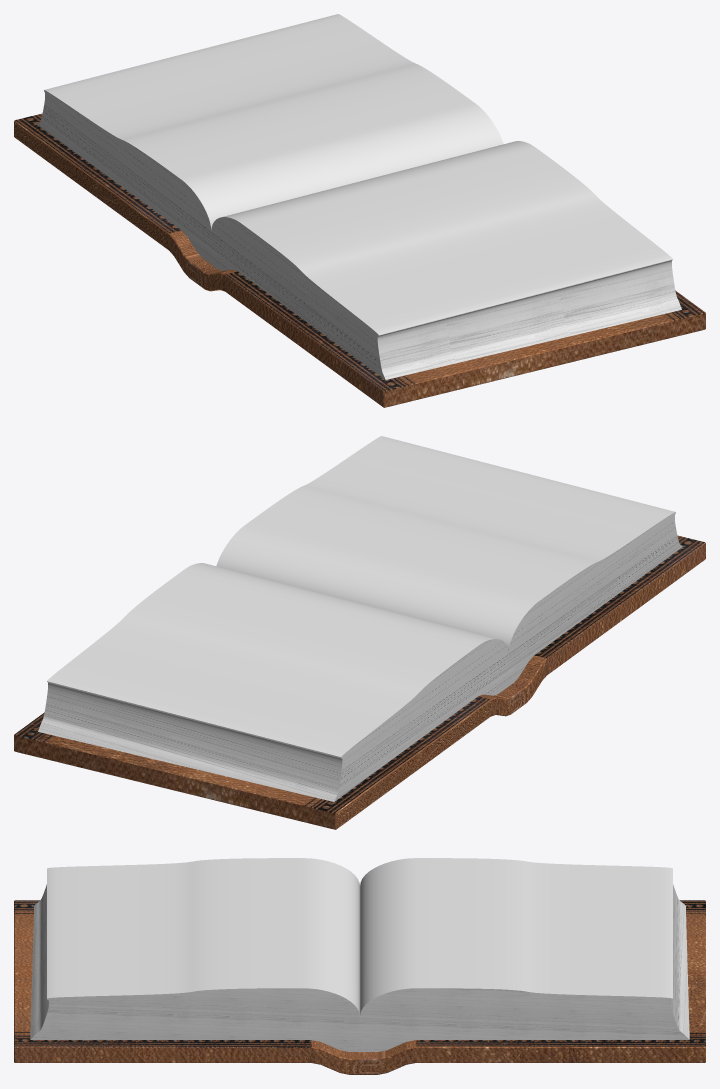
Rendered from PhoneBook.fbx.
3 renders of one model, top to bottom at view 1: azimuth 30°, elevation 25°; view 2: azimuth 150°, elevation 25°; view 3: azimuth 270°, elevation 25°, orthographic. The views are drawn at different scales.
Parts seen in each view (by area): view 1: BézierCurve.001, Cube.037; view 2: BézierCurve.001, Cube.037; view 3: BézierCurve.001, Cube.037.
Part boxes in pixels (box(x1,y1,x2,y2)): BézierCurve.001: box(37, 14, 681, 379); Cube.037: box(14, 113, 705, 407); BézierCurve.001: box(38, 436, 682, 801); Cube.037: box(14, 535, 705, 829); BézierCurve.001: box(30, 858, 689, 1051); Cube.037: box(14, 900, 705, 1074).
Bounding box in the file's own units: 139 × 35.14 × 276.
